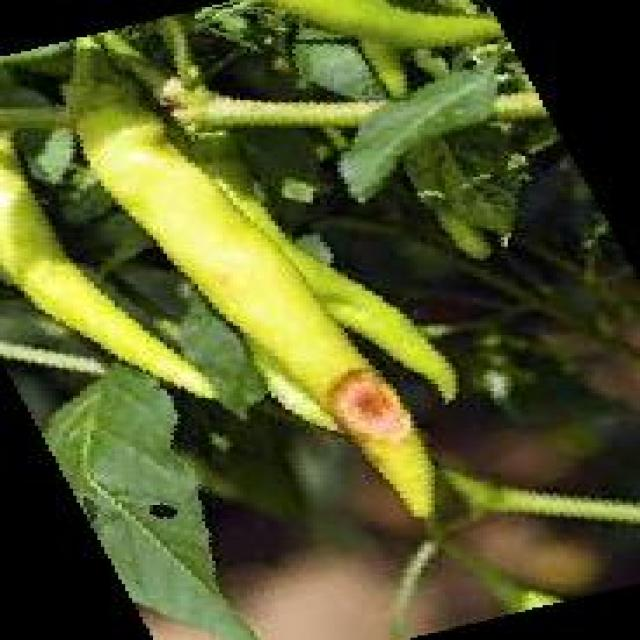Moko: (70, 83, 435, 489), (232, 357, 567, 458)
